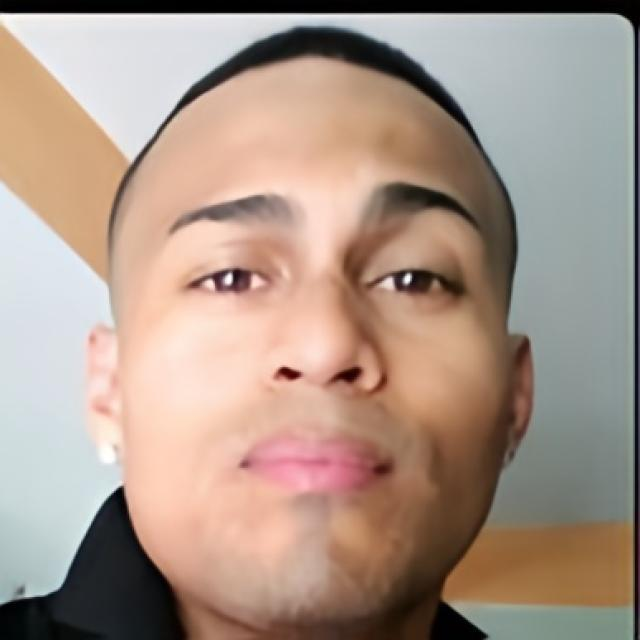neutral: (108, 49, 519, 640)
